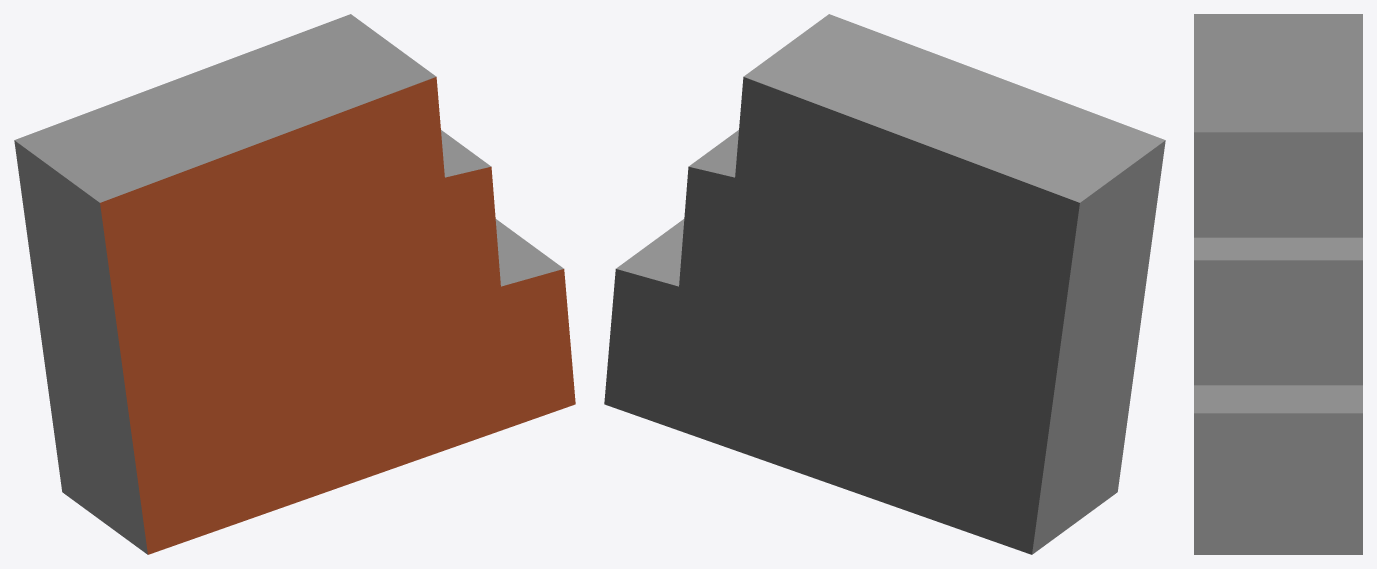
Rendered from construction_3037_assumed_A_Casa_h6m.obj.
The picture shows the model from 3 angles, left to right: view 1: azimuth 30°, elevation 25°; view 2: azimuth 150°, elevation 25°; view 3: azimuth 270°, elevation 25°; orthographic projection.
Visible parts, largest first — view 1: construction_3037_assumed_A_Casa; view 2: construction_3037_assumed_A_Casa; view 3: construction_3037_assumed_A_Casa.
Boxes of the visible parts, bbox=[...] form: construction_3037_assumed_A_Casa: bbox=[14, 14, 575, 554]; construction_3037_assumed_A_Casa: bbox=[604, 14, 1165, 554]; construction_3037_assumed_A_Casa: bbox=[1194, 14, 1362, 554].
Bounding box in the file's own units: 19.22 × 15.74 × 6.
